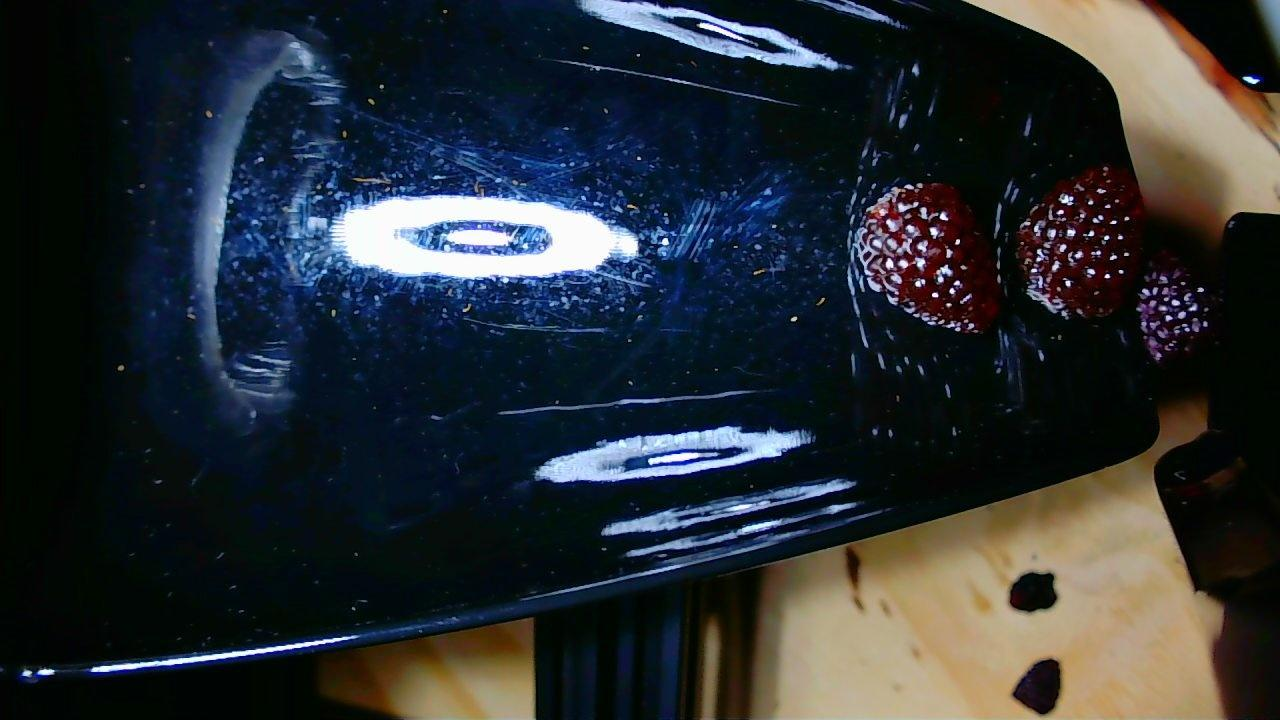berry: (853, 183, 1000, 332), (1016, 165, 1144, 318), (1138, 249, 1218, 364)
